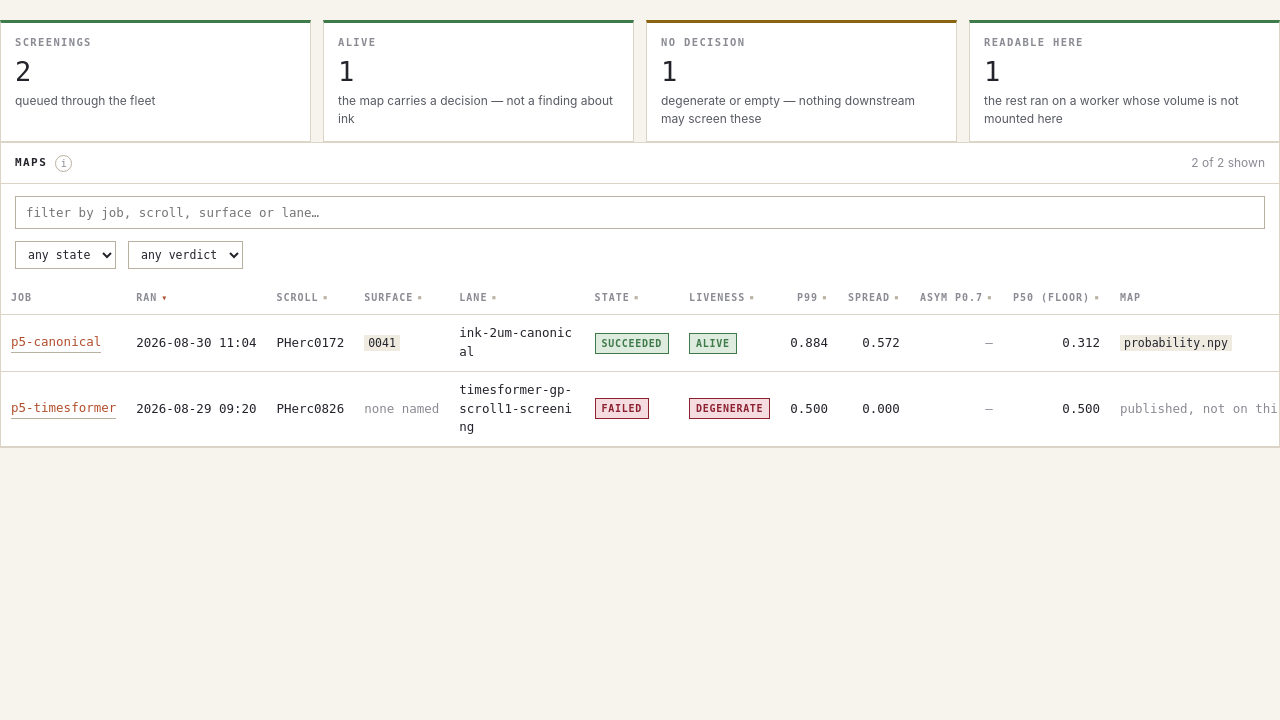
it: inspecting one run › draws no picture for a run whose bytes are on another host
Step 1. Click the button "p5-canonical" → point(56, 343), box x1=11 y1=333 x2=101 y2=353
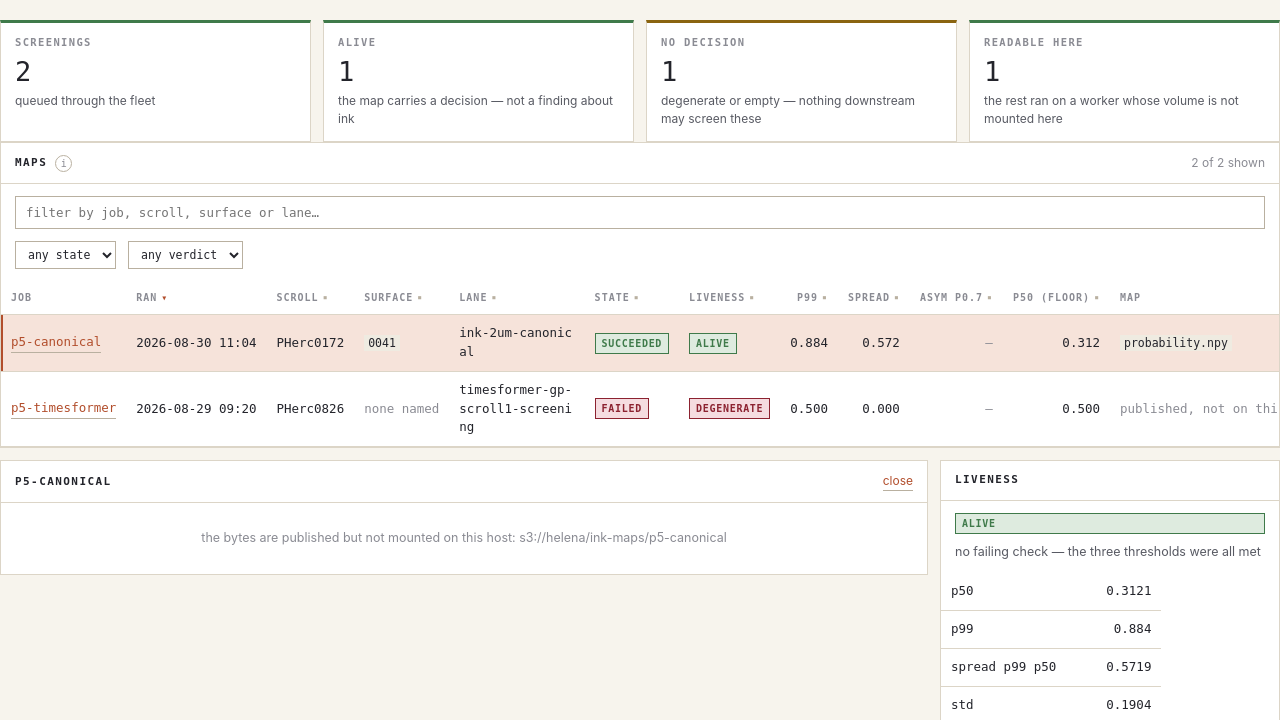
Expected: the text "published but not mounted on this host" is shown, x1=201 y1=530 x2=727 y2=545
